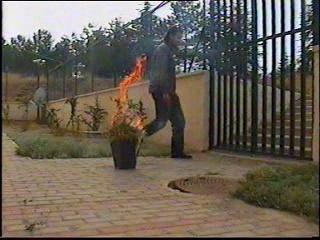fire: (118, 63, 143, 130)
